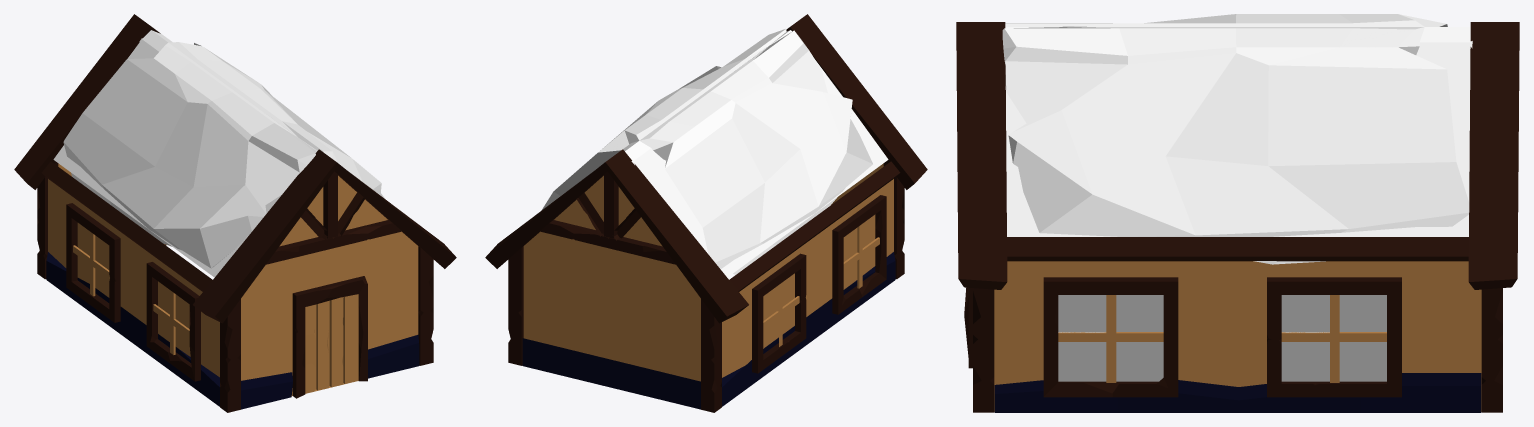
Rendered from House.obj.
3 renders of one model, left to right at view 1: azimuth 30°, elevation 25°; view 2: azimuth 150°, elevation 25°; view 3: azimuth 270°, elevation 25°, orthographic. The views are drawn at different scales.
Visible parts, largest first — view 1: Plane.013, Plane, Plane.001, Plane.012, Plane.007, Plane.004, Plane.006, Plane.005, Plane.010, Plane.002, Plane.009, Plane.003; view 2: Plane.013, Plane, Plane.001, Plane.012, Plane.007, Plane.004, Plane.010, Plane.002, Plane.009, Plane.003; view 3: Plane.013, Plane, Plane.001, Plane.008, Plane.007, Plane.012, Plane.010, Plane.004, Plane.009, Plane.005.
Boxes of the visible parts, x1=… form: Plane.013: x1=53, y1=30, x2=384, y2=277; Plane: x1=48, y1=163, x2=418, y2=395; Plane.001: x1=14, y1=14, x2=456, y2=323; Plane.012: x1=46, y1=244, x2=419, y2=409; Plane.007: x1=66, y1=203, x2=200, y2=381; Plane.004: x1=37, y1=162, x2=433, y2=412; Plane.006: x1=305, y1=294, x2=358, y2=393; Plane.005: x1=292, y1=276, x2=367, y2=398; Plane.010: x1=41, y1=161, x2=212, y2=291; Plane.002: x1=266, y1=171, x2=401, y2=264; Plane.009: x1=73, y1=231, x2=189, y2=354; Plane.003: x1=301, y1=192, x2=364, y2=240; Plane.013: x1=541, y1=28, x2=888, y2=277; Plane: x1=523, y1=163, x2=893, y2=381; Plane.001: x1=485, y1=14, x2=927, y2=323; Plane.012: x1=522, y1=252, x2=895, y2=409; Plane.007: x1=752, y1=195, x2=886, y2=373; Plane.004: x1=508, y1=162, x2=904, y2=412; Plane.010: x1=729, y1=161, x2=900, y2=291; Plane.002: x1=540, y1=171, x2=675, y2=264; Plane.009: x1=763, y1=224, x2=879, y2=346; Plane.003: x1=576, y1=192, x2=640, y2=240; Plane.013: x1=1002, y1=14, x2=1472, y2=264; Plane: x1=994, y1=261, x2=1481, y2=411; Plane.001: x1=956, y1=22, x2=1519, y2=289; Plane.008: x1=1058, y1=295, x2=1386, y2=381; Plane.007: x1=1043, y1=277, x2=1401, y2=397; Plane.012: x1=994, y1=373, x2=1481, y2=412; Plane.010: x1=1007, y1=237, x2=1468, y2=261; Plane.004: x1=973, y1=288, x2=1502, y2=412; Plane.009: x1=1058, y1=295, x2=1386, y2=382; Plane.005: x1=964, y1=287, x2=972, y2=368.
Size of the model in its own units: 5.49 by 4.83 by 7.65.
